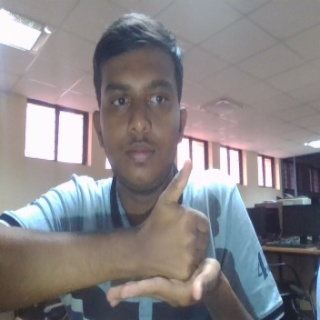Face: (91, 14, 185, 193)
Help: (105, 156, 222, 309)
